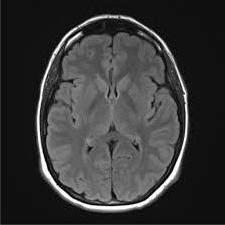Normal_Brain: (7, 2, 225, 225)
